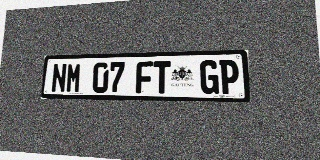0: (92, 62, 109, 93)
7: (108, 62, 125, 93)
F: (136, 61, 153, 93)
G: (200, 60, 219, 94)
M: (66, 63, 82, 93)
N: (51, 63, 67, 93)
P: (219, 59, 239, 94)
T: (153, 61, 171, 94)
